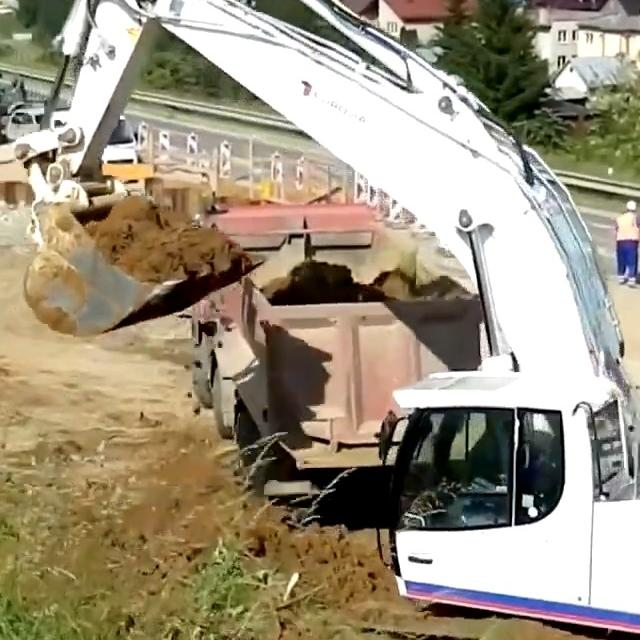Excavator: (20, 0, 640, 640)
Hardhat: (626, 201, 636, 210)
Person: (464, 424, 537, 518), (614, 201, 640, 287)
Safety Vest: (615, 213, 640, 243)
dump truck: (190, 199, 487, 525)
machinery: (0, 43, 27, 146)
vehicle: (54, 108, 138, 181), (5, 104, 47, 141)
